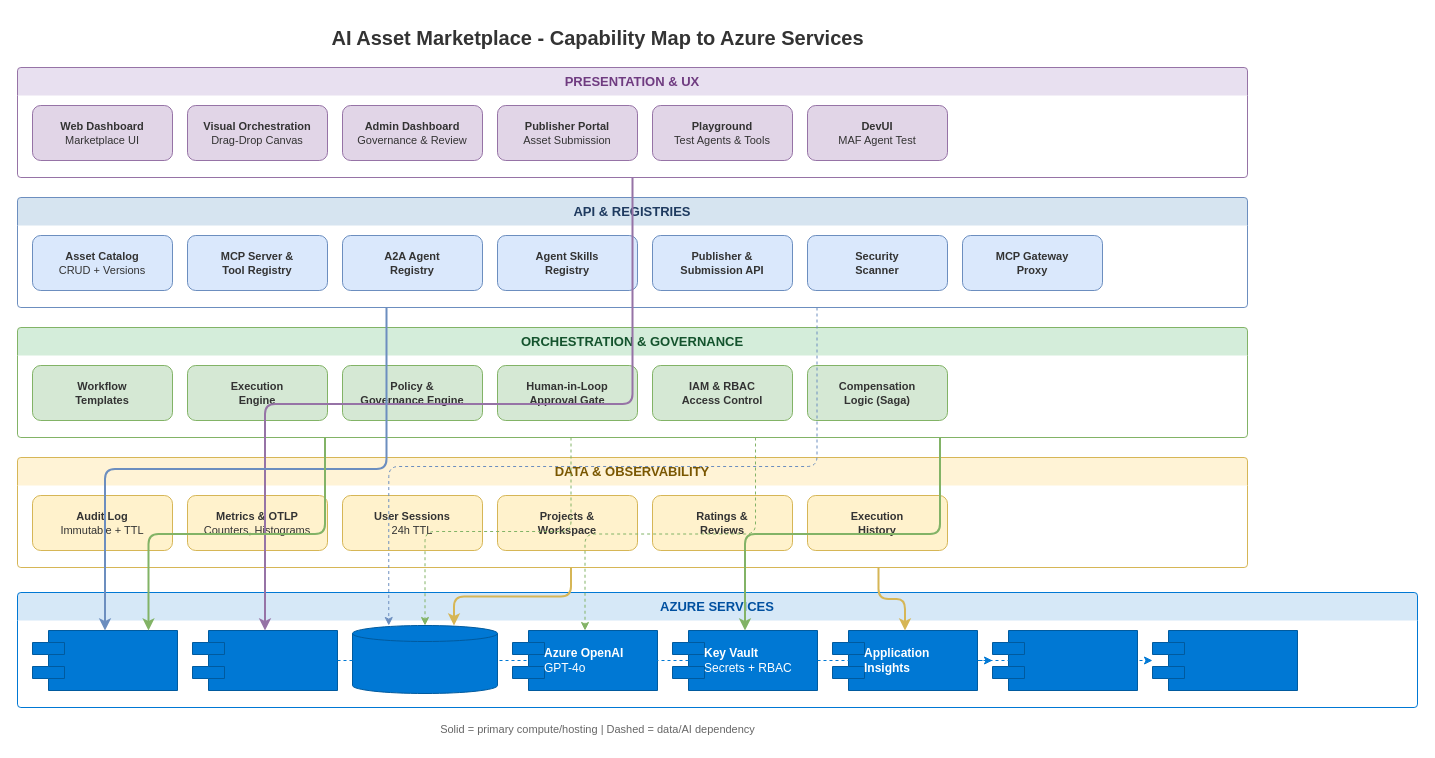
The diagram is 1435 pixels wide and 758 high, and some of its shapes have lost their labels. The centre of each missing label's shape, as x and y in pixels:
"Azure Functions Flex Consumption" belongs at [105,660].
"Container Apps Next.js 15 Web" belongs at [265,660].
"Container Registry (ACR)" belongs at [1065,660].
"Cosmos DB Serverless - 22 Ctrs" belongs at [425,659].
"Log Analytics Workspace" belongs at [1225,660].
